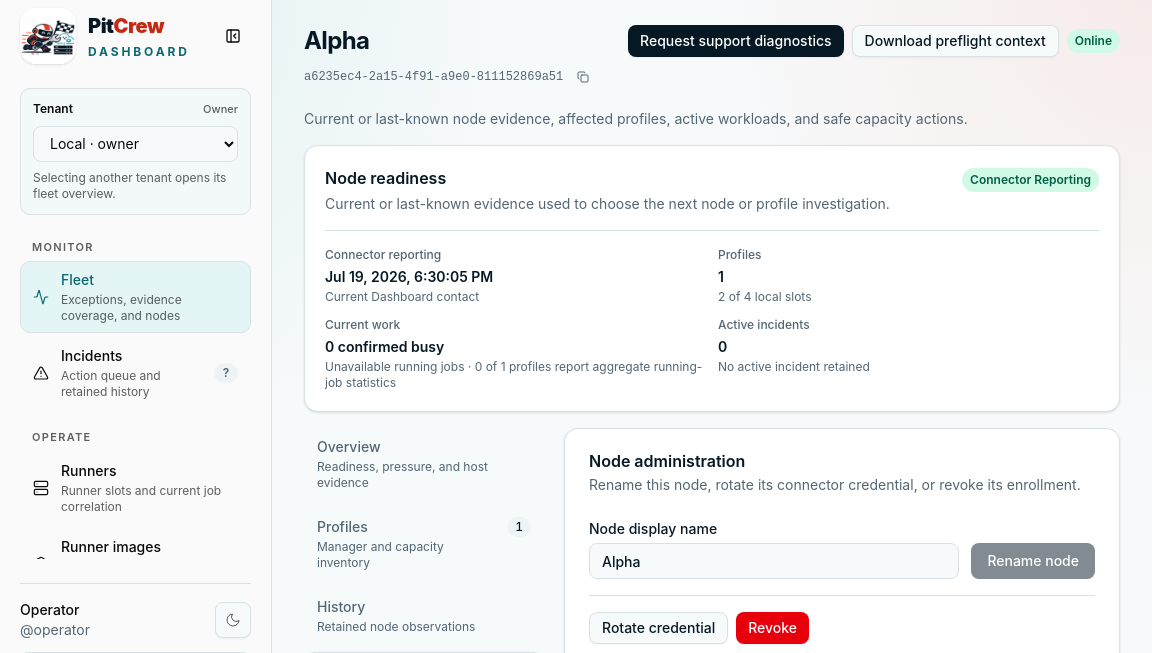
Scenario: fleet overview and node detail › keeps stale node data visible when a refresh fails
(page scrolled)
Click the button "Rotate credential" at [659, 628], box [589, 612, 728, 644]
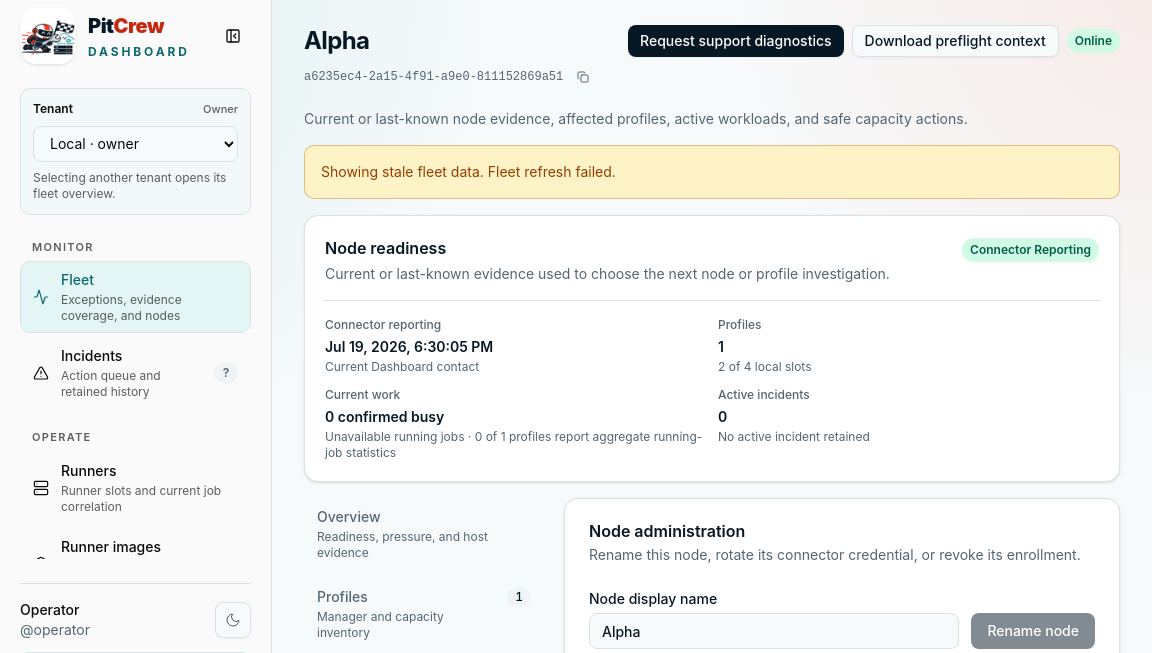
Expected: the heading "Alpha" is shown, [304, 26, 369, 55]
Result: the text "Showing stale fleet data. Fleet refresh failed." is shown at [304, 145, 1120, 199]
